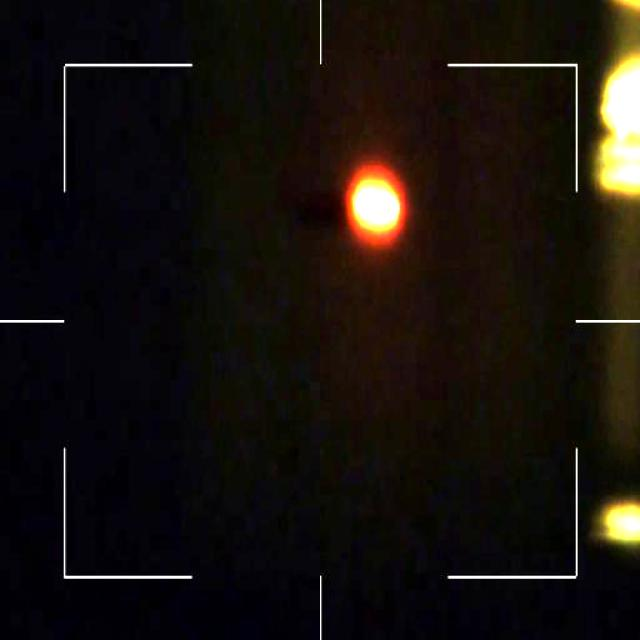bird: (345, 164, 405, 242)
